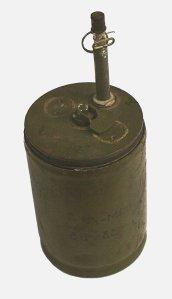OZM 72: (25, 12, 147, 278)
